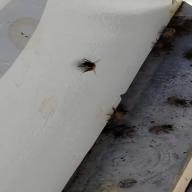Bee: (147, 120, 184, 138), (79, 56, 103, 76)
